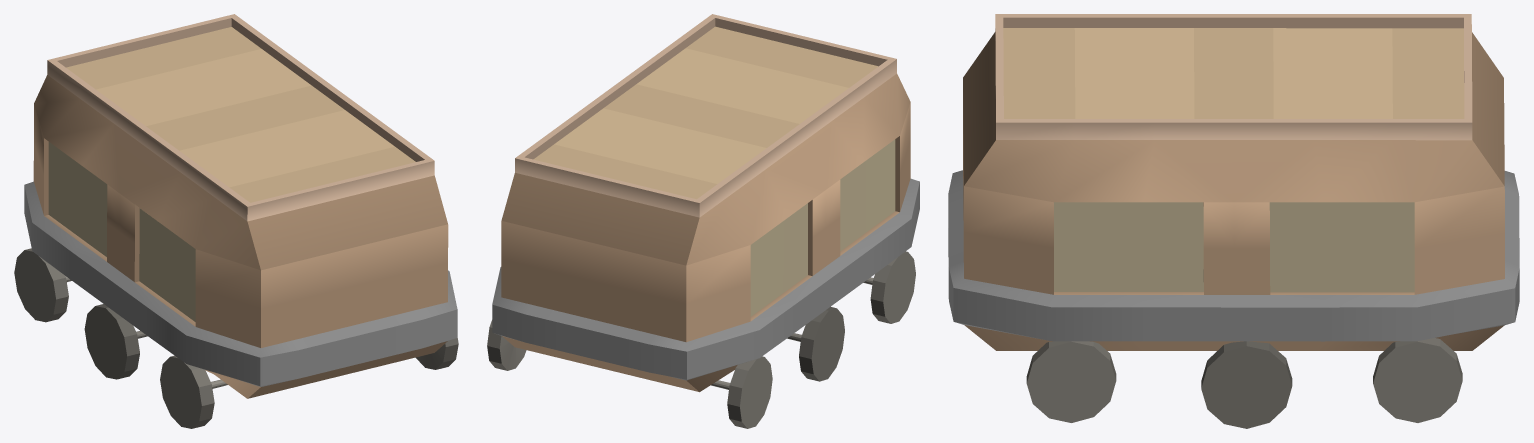
Rendered from Orange Train.fbx.
The picture shows the model from 3 angles, left to right: view 1: azimuth 30°, elevation 25°; view 2: azimuth 150°, elevation 25°; view 3: azimuth 270°, elevation 25°; orthographic projection. The views are drawn at different scales.
Parts seen in each view (by area): view 1: pCube1, pCylinder3, pCylinder2, pCylinder4; view 2: pCube1, pCylinder4, pCylinder2, pCylinder3; view 3: pCube1, pCylinder2, pCylinder4, pCylinder3.
Part boxes in pixels (left/top/right/bottom): pCube1: left=24, top=14, right=457, bottom=398; pCylinder3: left=160, top=338, right=458, bottom=428; pCylinder2: left=84, top=304, right=147, bottom=379; pCylinder4: left=14, top=248, right=71, bottom=322; pCube1: left=492, top=14, right=919, bottom=392; pCylinder4: left=487, top=320, right=772, bottom=428; pCylinder2: left=787, top=306, right=844, bottom=381; pCylinder3: left=863, top=251, right=915, bottom=323; pCube1: left=948, top=14, right=1519, bottom=350; pCylinder2: left=1201, top=341, right=1292, bottom=428; pCylinder4: left=1373, top=338, right=1462, bottom=422; pCylinder3: left=1026, top=341, right=1116, bottom=422.
Bounding box in the file's own units: 3.55 × 3.08 × 5.6.
